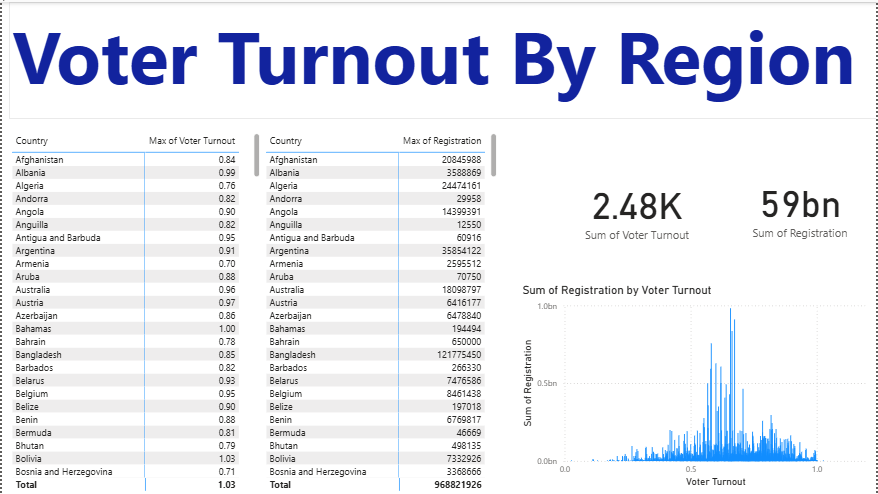

Layout of this report page (visuals, bound fields, positions):
{"tool":"powerbi","page":{"name":"Page 2","canvas":[1280,720],"ordinal":1},"visuals":[{"type":"textbox","box":[10,0,1270,171.7],"z":0},{"type":"pivotTable","fields":{"Rows":["cleaned_voter_turnout_with_country.Country"],"Values":["Max(cleaned_voter_turnout_with_country.Voter Turnout)"]},"box":[10,186.7,371.7,533.3],"z":1000},{"type":"pivotTable","fields":{"Rows":["cleaned_voter_turnout_with_country.Country"],"Values":["Max(cleaned_voter_turnout_with_country.Registration)"]},"box":[381.7,186.7,346.7,533.3],"z":2000},{"type":"card","fields":{"Values":["Sum(cleaned_voter_turnout_with_country.Registration)"]},"box":[1055,186.7,225,225],"z":3000},{"type":"card","fields":{"Values":["Sum(cleaned_voter_turnout_with_country.Voter Turnout)"]},"box":[803.3,186.7,251.7,230],"z":4000},{"type":"clusteredColumnChart","fields":{"Category":["cleaned_voter_turnout_with_country.Voter Turnout"],"Y":["Sum(cleaned_voter_turnout_with_country.Registration)"]},"box":[756.7,411.7,523.3,303.3],"z":5000}]}

Visuals, with their boxes in screenshot pixels (x1, y1, x2, y2), scaled from the page's 1280x720 canvas onto the 878x494 screenshot:
textbox: pyautogui.locateOnScreen(7, 0, 877, 118)
pivotTable - cleaned_voter_turnout_with_country.Country x Max(cleaned_voter_turnout_with_country.Voter Turnout): pyautogui.locateOnScreen(7, 128, 262, 493)
pivotTable - cleaned_voter_turnout_with_country.Country x Max(cleaned_voter_turnout_with_country.Registration): pyautogui.locateOnScreen(262, 128, 500, 493)
card - Sum(cleaned_voter_turnout_with_country.Registration): pyautogui.locateOnScreen(724, 128, 877, 282)
card - Sum(cleaned_voter_turnout_with_country.Voter Turnout): pyautogui.locateOnScreen(551, 128, 724, 286)
clusteredColumnChart - cleaned_voter_turnout_with_country.Voter Turnout x Sum(cleaned_voter_turnout_with_country.Registration): pyautogui.locateOnScreen(519, 282, 877, 491)
